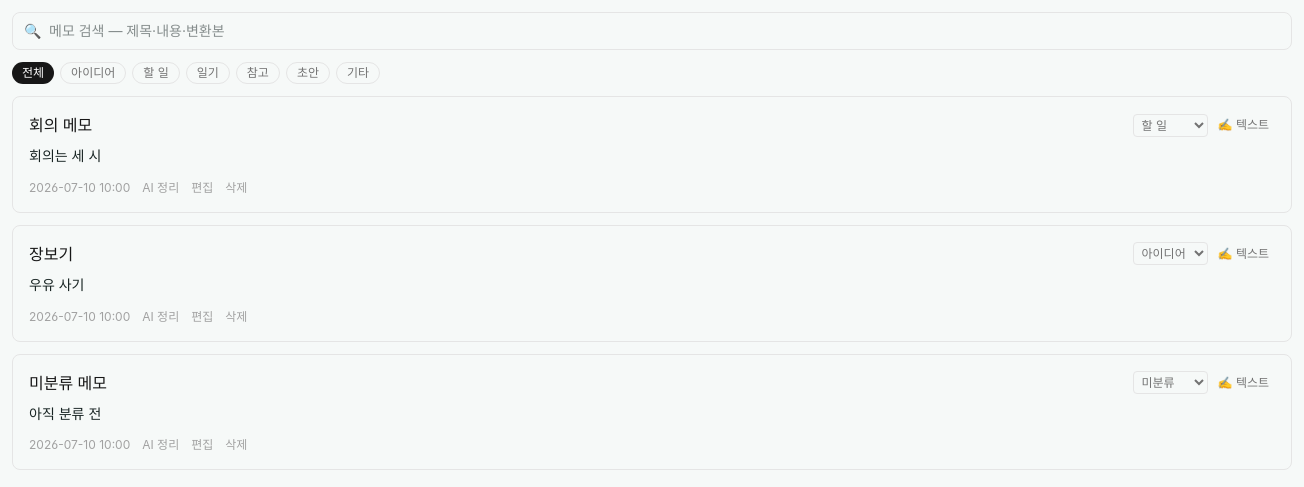
Test: 카테고리 필터 (서버 WHERE 조회) › 칩 클릭 시 서버 필터 조회로 전환한다 (LIMIT 컷 밖 메모도 도달)
Click the button "아이디어" at (93, 73), box [60,62,126,84]
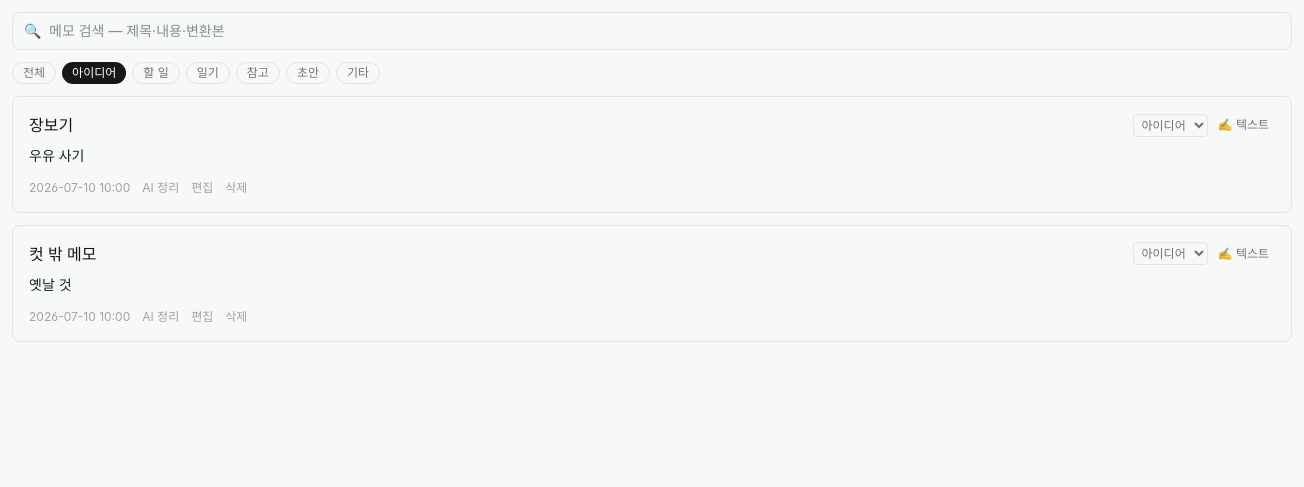
Expected: the heading "장보기" is shown, [29,113,73,137]
Expected: the heading "컷 밖 메모" is shown, [29,242,96,266]
Expected: the heading "회의 메모" is gone
